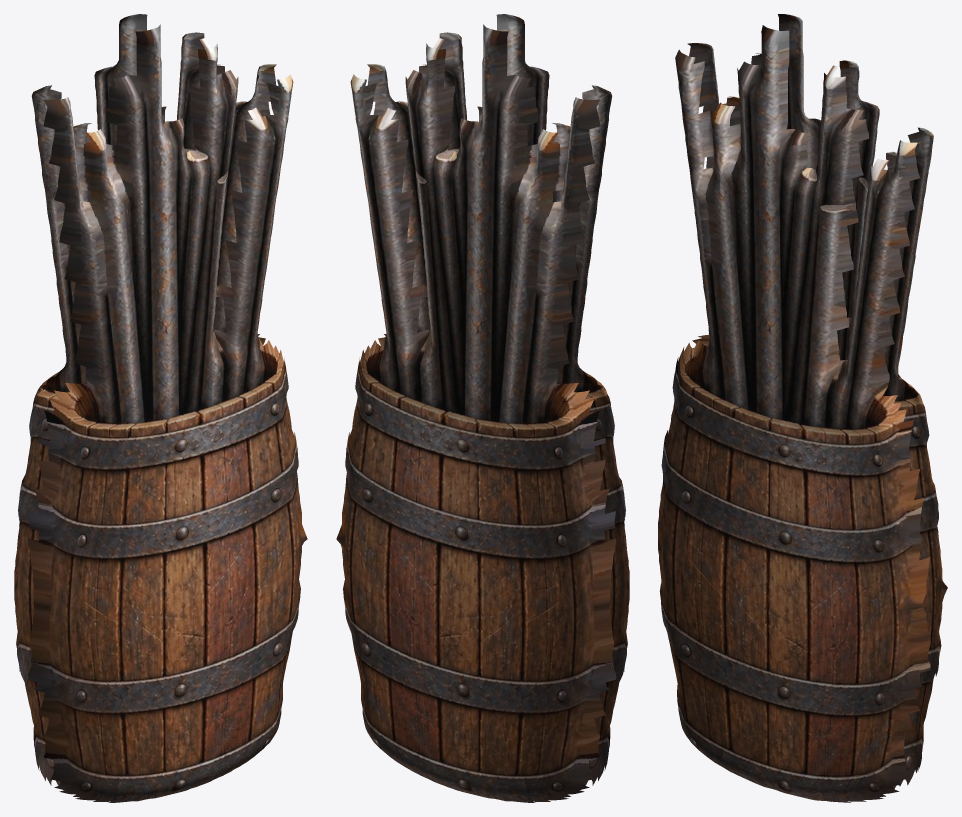
File: v4-forge-scatter-rod-barrel.glb
The picture shows the model from 3 angles, left to right: view 1: azimuth 30°, elevation 25°; view 2: azimuth 150°, elevation 25°; view 3: azimuth 330°, elevation 25°; orthographic projection.
Parts seen in each view (by area): view 1: v4-forge-scatter-rod-barrel; view 2: v4-forge-scatter-rod-barrel; view 3: v4-forge-scatter-rod-barrel.
Part boxes in pixels (<box>): v4-forge-scatter-rod-barrel: <box>14,14,307,802</box>; v4-forge-scatter-rod-barrel: <box>336,14,629,802</box>; v4-forge-scatter-rod-barrel: <box>658,14,947,802</box>.
Size of the model in its own units: 0.3608 by 0.9861 by 0.0899.
1 material, 1 textured.
